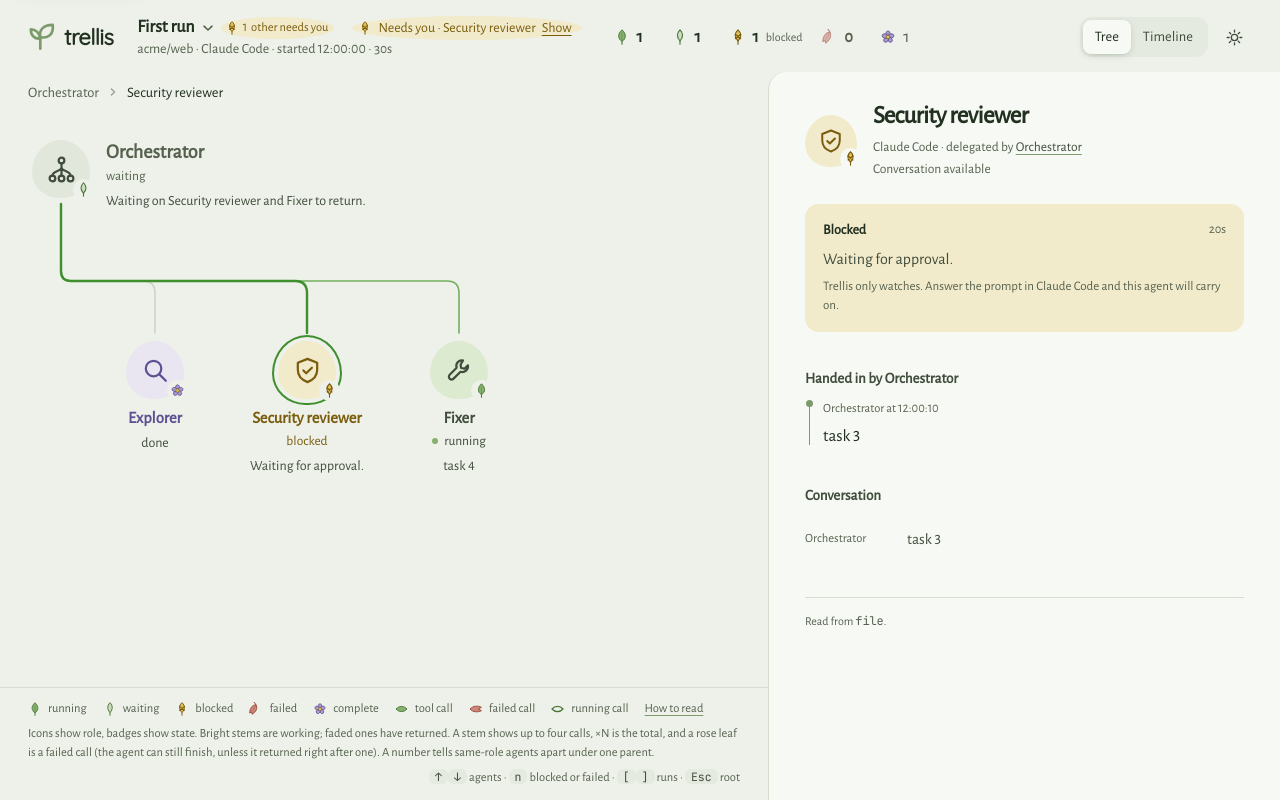
Test case: run menu › closes when a pointer press lands outside the menu
The width and height of the screenshot is (1280, 800).
Press the mouse on the button with aria-label "Switch session" at coordinates (236, 28), box [129,13,342,43]
Wait 1 ms
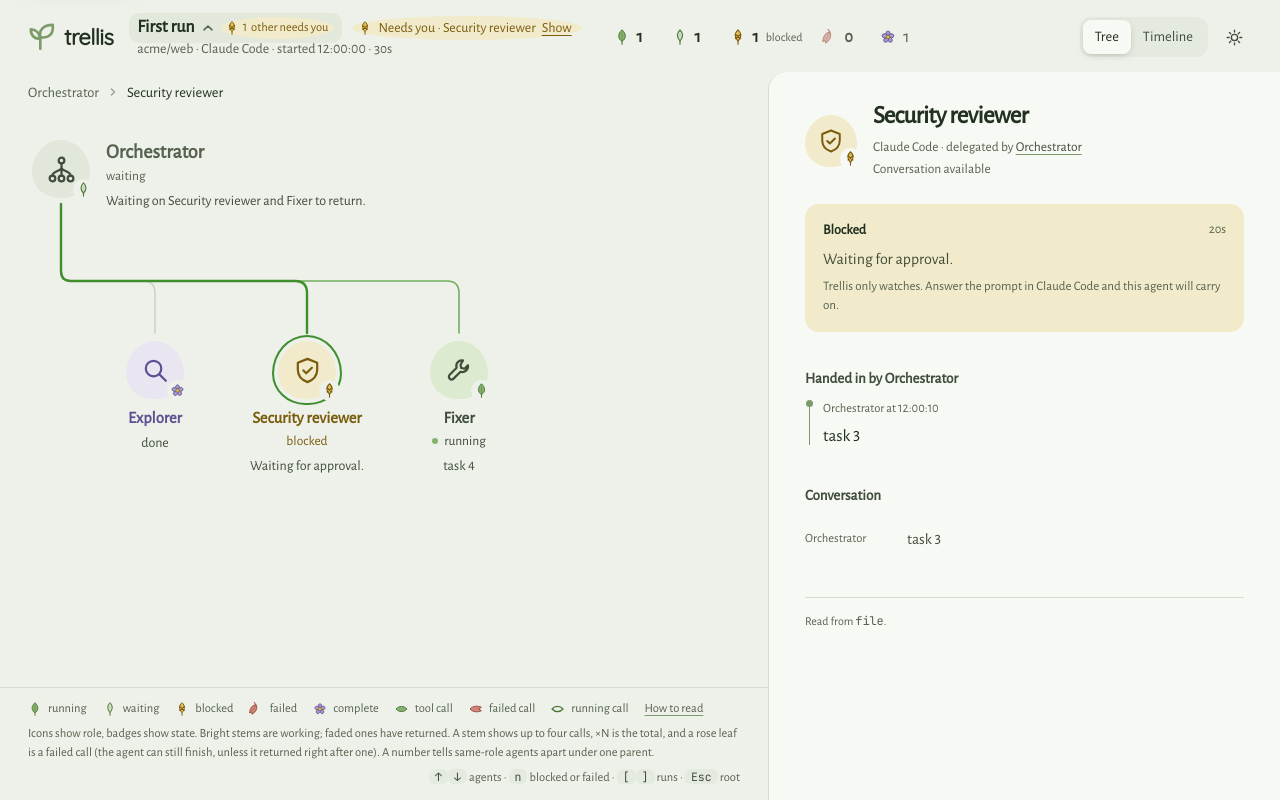
Press the mouse on the element that starts with "Skip to the graph" at coordinates (640, 400), box [0,0,1279,799]
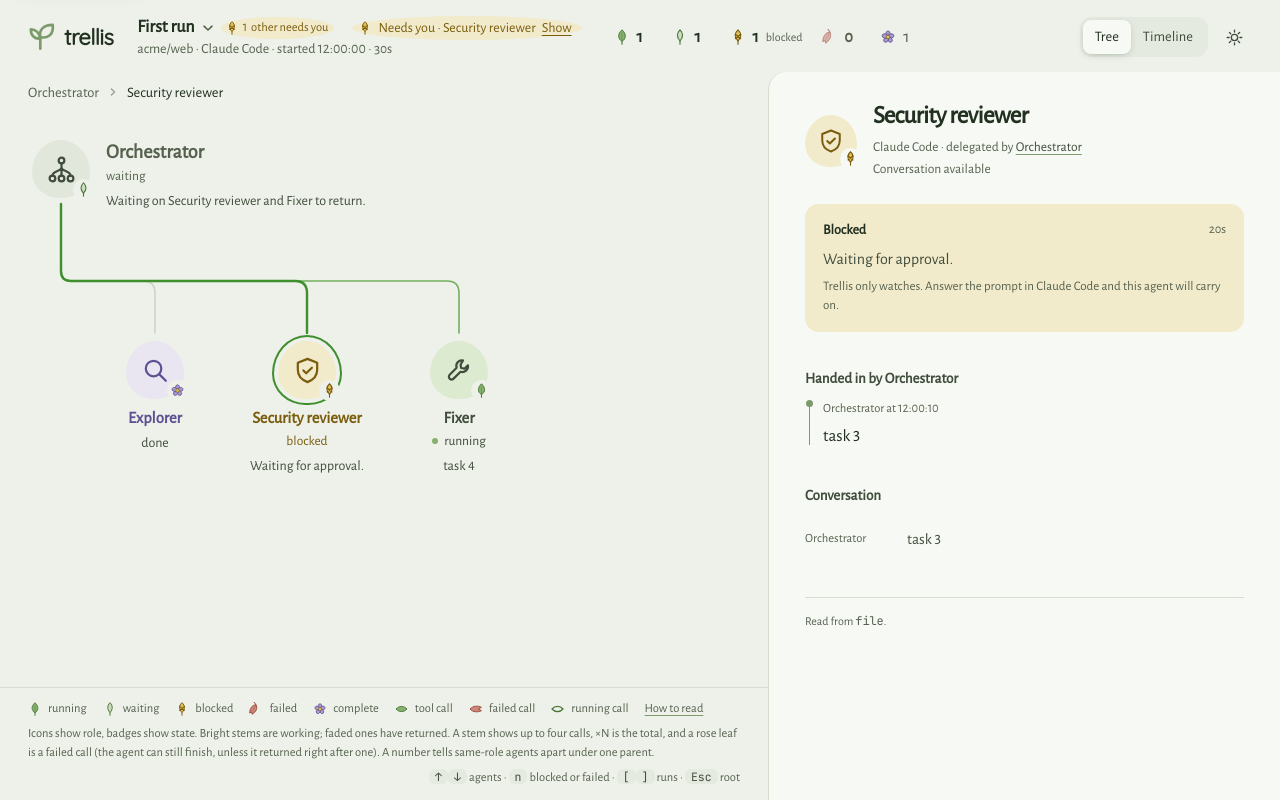
Expected: the button with aria-label "Switch session" is collapsed, [129,13,342,43]
